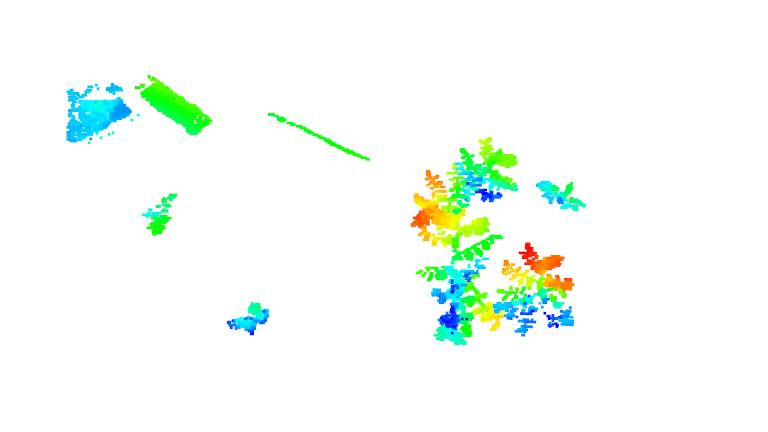chickpea: (407, 137, 502, 260), (500, 241, 578, 340), (414, 258, 499, 344), (536, 172, 591, 217), (136, 190, 186, 238), (222, 300, 276, 341)
